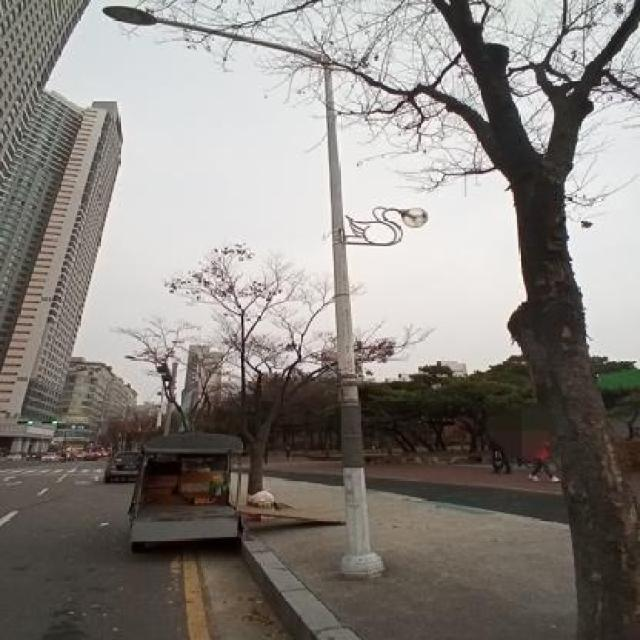pole: (302, 44, 388, 590)
